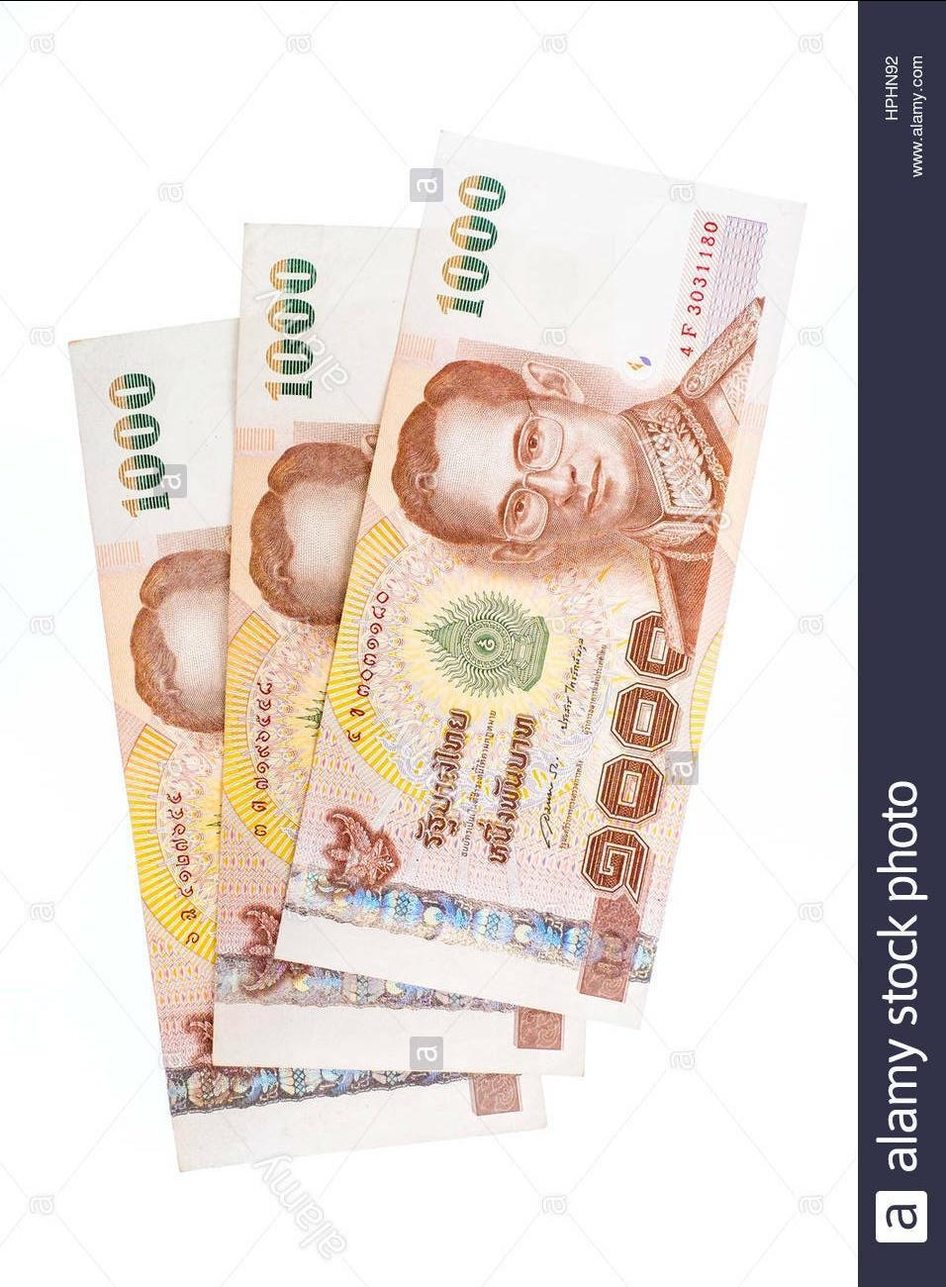1000BahtTai: (263, 135, 791, 962)
